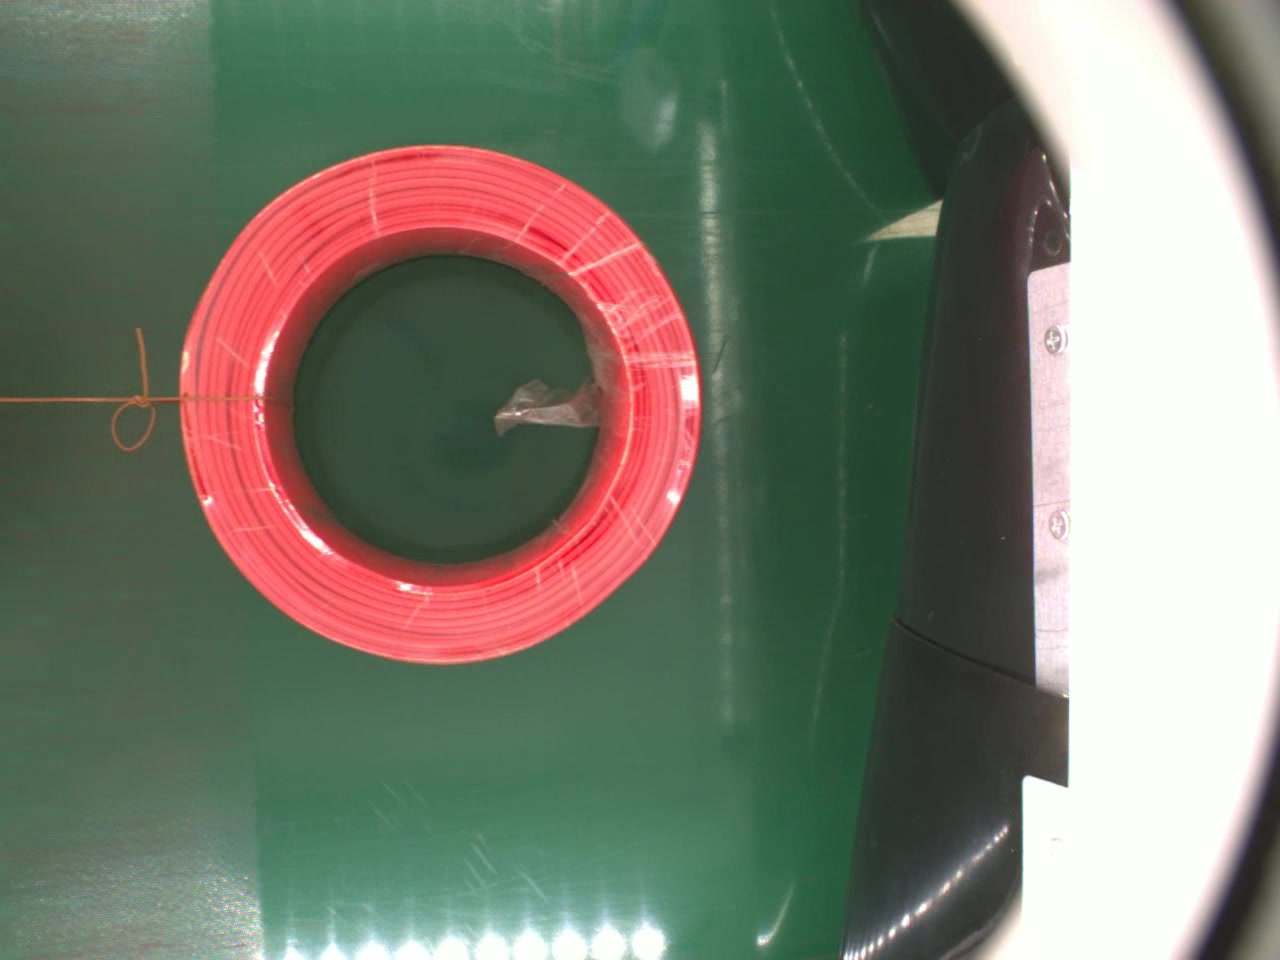red: (178, 142, 711, 668)
